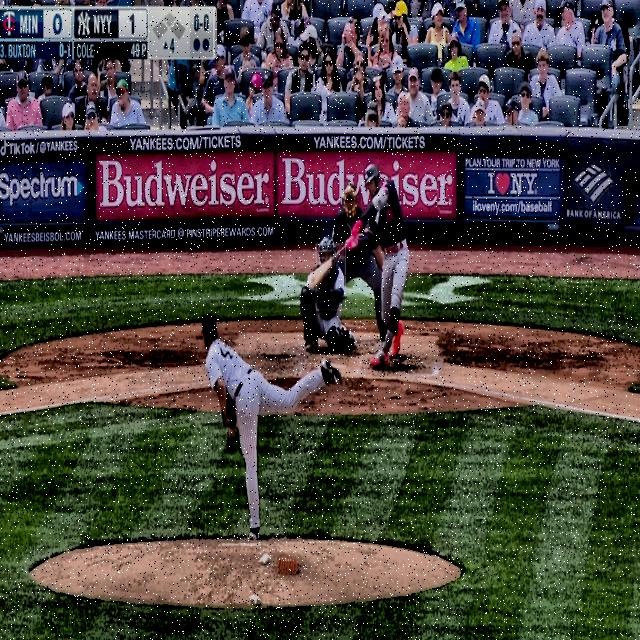baseball: (309, 270, 317, 284)
